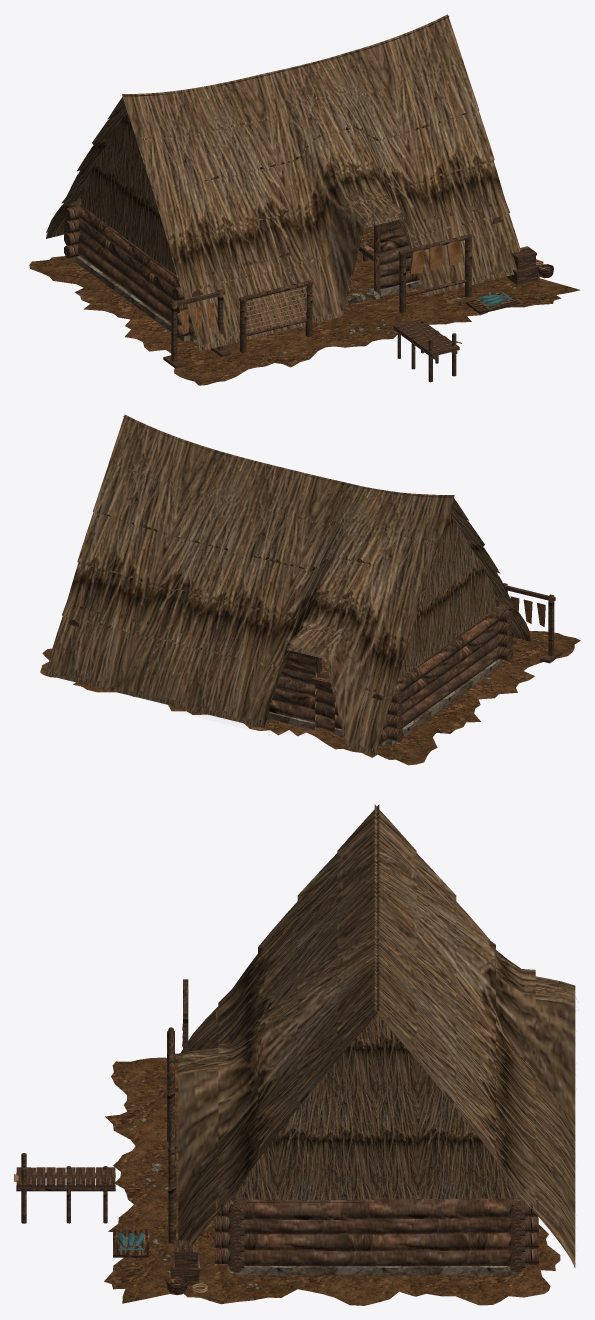
Rendered from fisher.glb.
3 renders of one model, top to bottom at view 1: azimuth 30°, elevation 25°; view 2: azimuth 150°, elevation 25°; view 3: azimuth 270°, elevation 25°, orthographic. The views are drawn at different scales.
Visible parts, largest first — view 1: part_13, part_3, part_0, part_6, part_8, part_1, part_2, part_9; view 2: part_13, part_0, part_3, part_6; view 3: part_13, part_0, part_3, part_6, part_9.
Boxes of the visible parts, <box> form: part_13: <box>46,14,520,351</box>; part_3: <box>29,256,580,385</box>; part_0: <box>64,196,538,382</box>; part_6: <box>75,256,421,342</box>; part_8: <box>180,241,461,334</box>; part_1: <box>246,262,542,343</box>; part_2: <box>348,226,373,295</box>; part_9: <box>366,238,553,313</box>; part_13: <box>46,414,531,755</box>; part_0: <box>68,583,562,744</box>; part_3: <box>40,631,580,765</box>; part_6: <box>267,659,501,746</box>; part_13: <box>178,804,575,1267</box>; part_0: <box>16,979,538,1285</box>; part_3: <box>104,1057,560,1305</box>; part_6: <box>227,1264,526,1275</box>; part_9: <box>113,1229,187,1295</box>.
Bounding box in the file's own units: 6.7 × 3.69 × 6.42.
15 materials, 9 textured.
